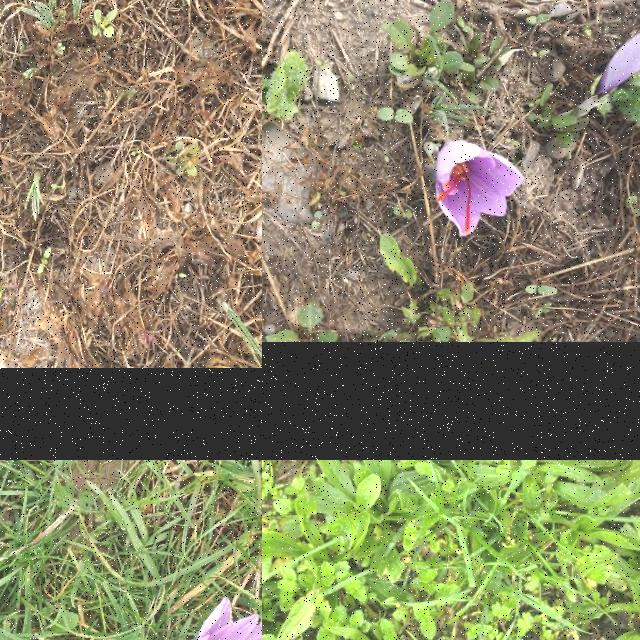flower: (435, 138, 525, 238), (596, 24, 640, 96), (192, 596, 262, 640)
